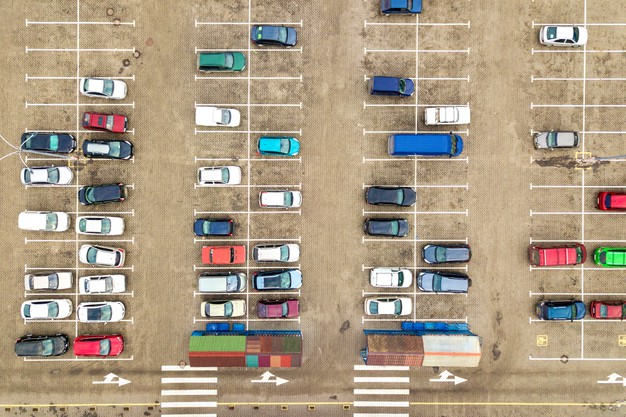car: (387, 131, 467, 160), (15, 207, 77, 237), (527, 241, 592, 269), (413, 265, 471, 296), (72, 332, 130, 362), (11, 332, 74, 359), (73, 298, 132, 326), (188, 104, 243, 134), (192, 49, 248, 78), (21, 128, 76, 157), (77, 134, 136, 161), (356, 290, 415, 317), (249, 22, 305, 50), (365, 73, 417, 103), (416, 241, 472, 268), (536, 296, 588, 325), (80, 108, 135, 135), (75, 242, 128, 270), (248, 269, 306, 294), (536, 24, 589, 51), (78, 73, 129, 101), (19, 165, 78, 189), (15, 298, 74, 321), (75, 214, 129, 239), (527, 127, 581, 152), (78, 182, 131, 207), (75, 273, 130, 297), (251, 133, 301, 159), (251, 241, 303, 266), (20, 268, 74, 292), (195, 244, 248, 268), (420, 105, 473, 129), (363, 184, 416, 208), (364, 267, 416, 291), (193, 272, 249, 294), (252, 298, 303, 322), (189, 212, 235, 238), (196, 164, 244, 188), (362, 215, 410, 239), (195, 298, 250, 318), (255, 189, 303, 211), (588, 243, 626, 270), (587, 298, 626, 323), (379, 1, 425, 21), (593, 189, 626, 212)
